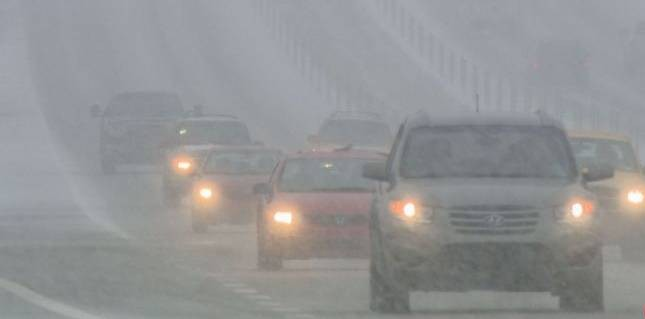car: (369, 112, 591, 295), (249, 145, 388, 267), (559, 132, 642, 243), (93, 83, 197, 170), (166, 115, 251, 201), (196, 146, 273, 227), (307, 105, 394, 161)
